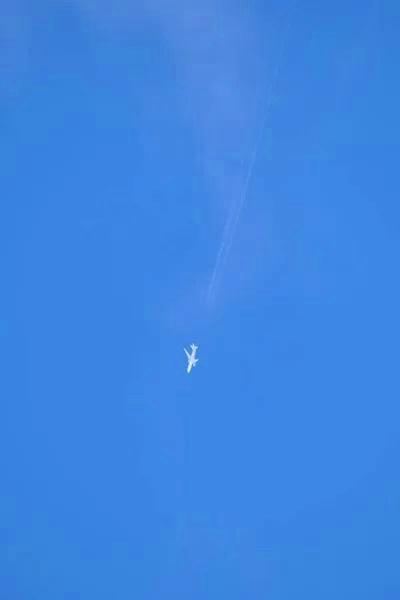Plane: (173, 330, 208, 383)
